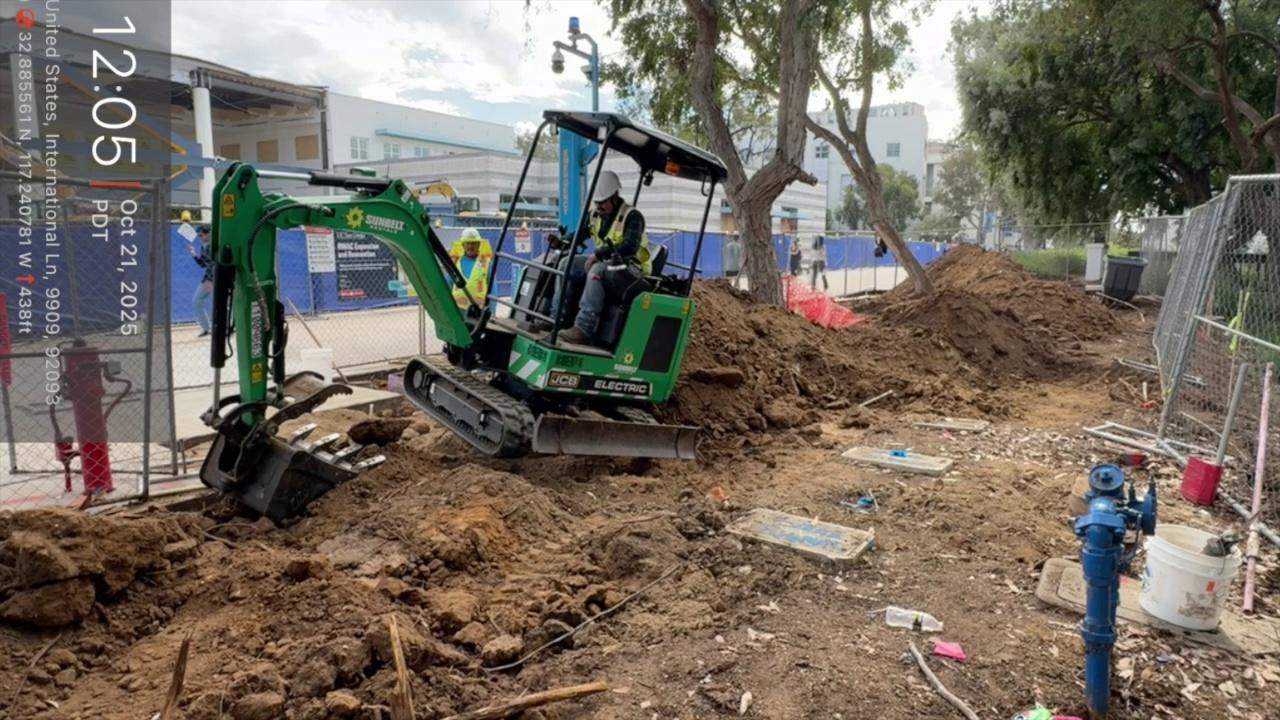Exacavator: (196, 107, 729, 527)
